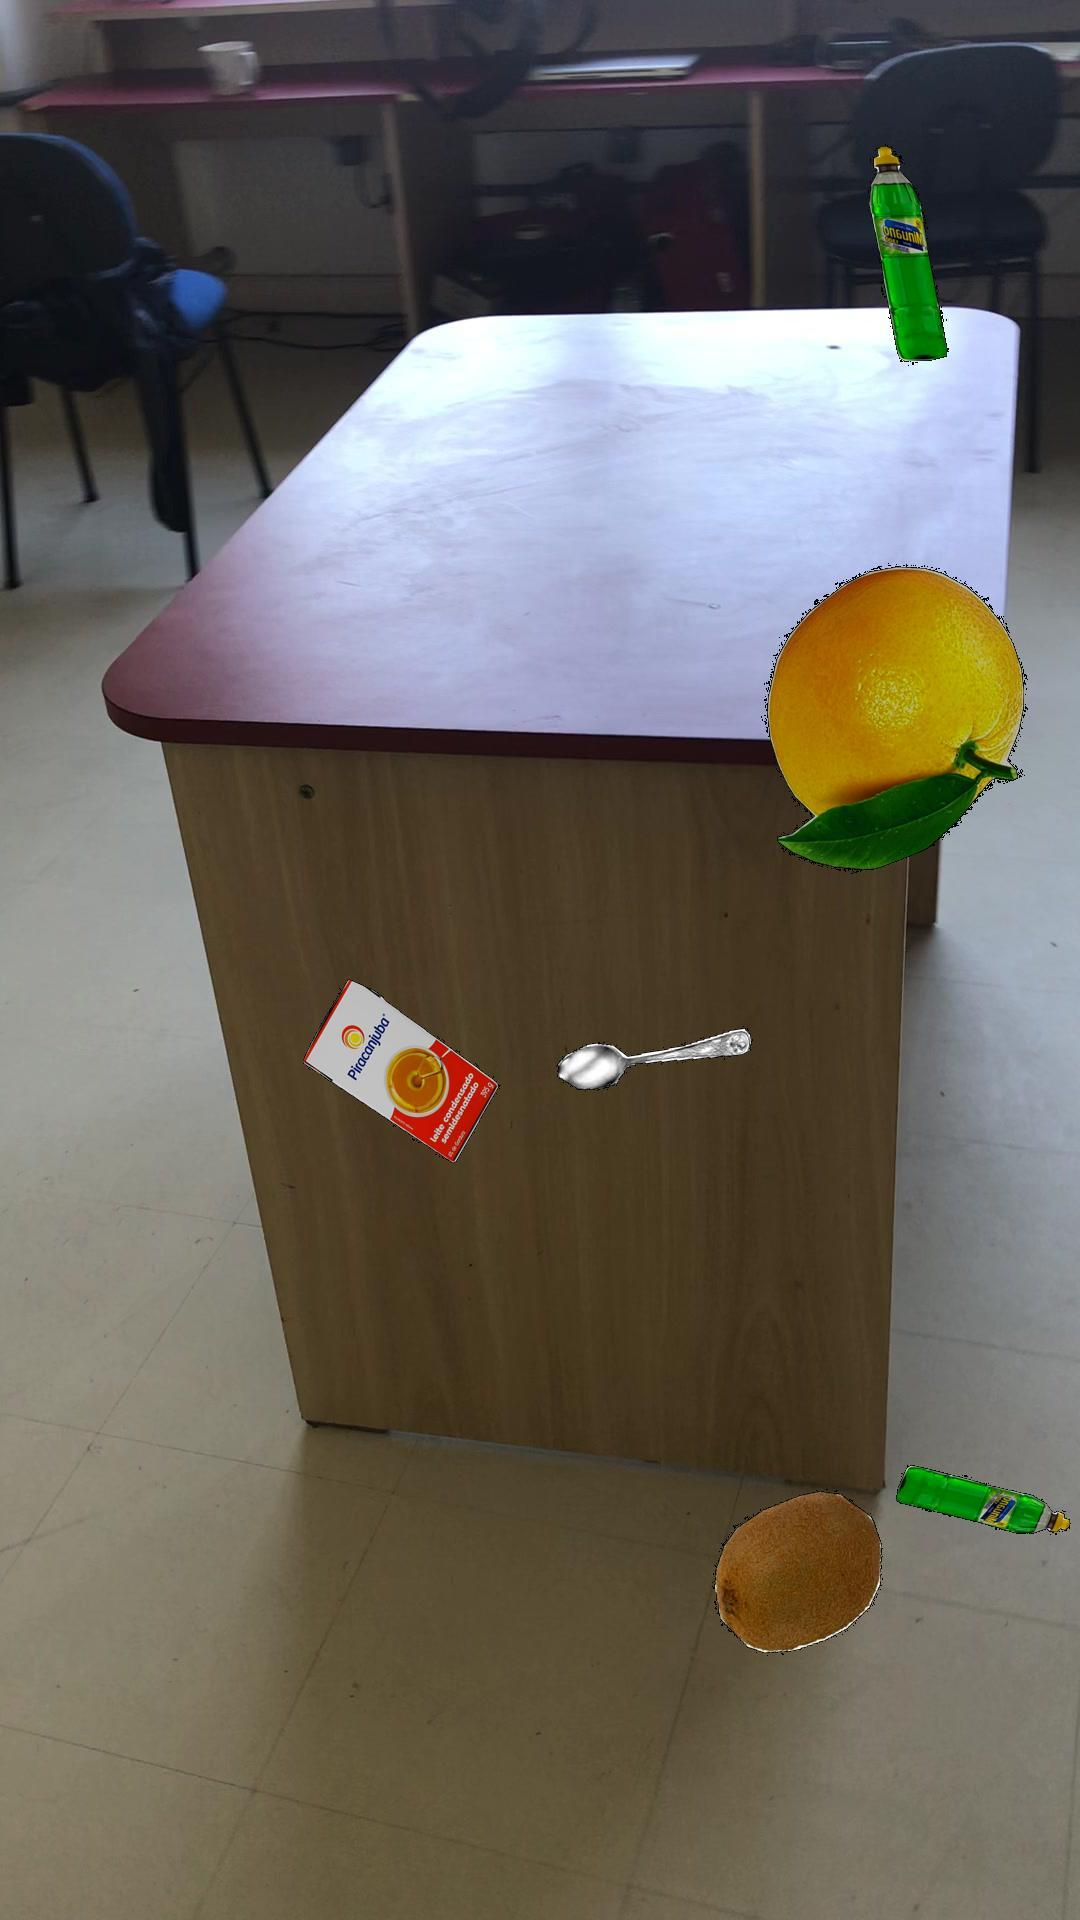cleaner: (868, 142, 948, 360), (894, 1464, 1068, 1532)
kiwi: (712, 1490, 881, 1651)
orange: (765, 563, 1025, 872)
spoon: (555, 1026, 749, 1088)
